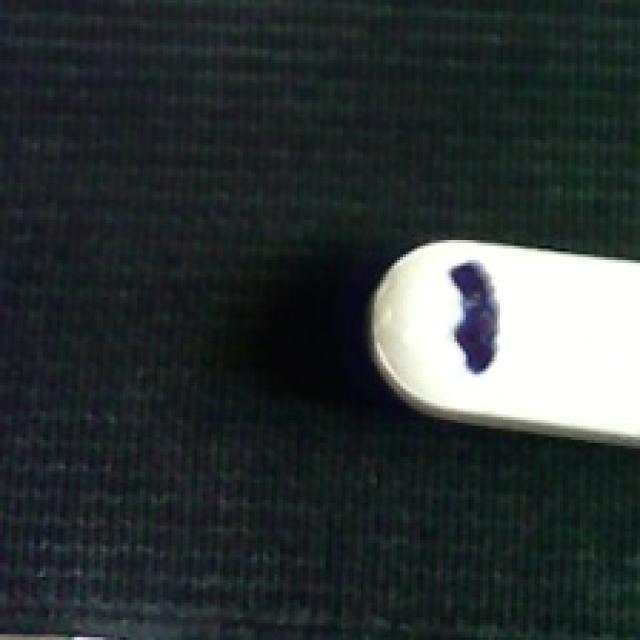defected: (360, 231, 637, 443)
